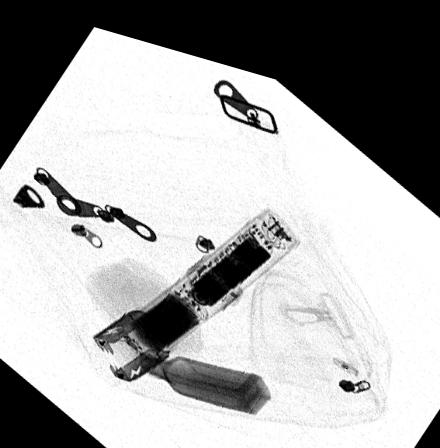Baton: (90, 189, 300, 375)
